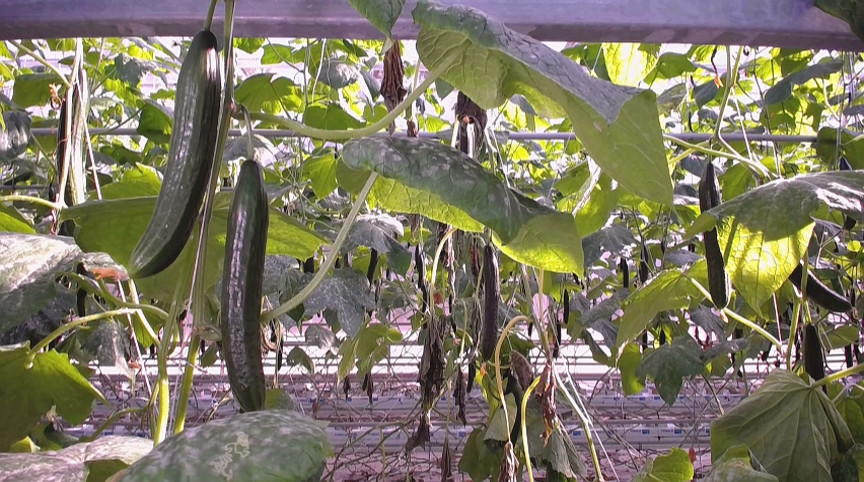cucumber: (128, 31, 223, 279), (224, 161, 267, 412), (697, 165, 732, 311), (788, 260, 854, 311), (481, 245, 499, 360), (804, 325, 828, 392)
